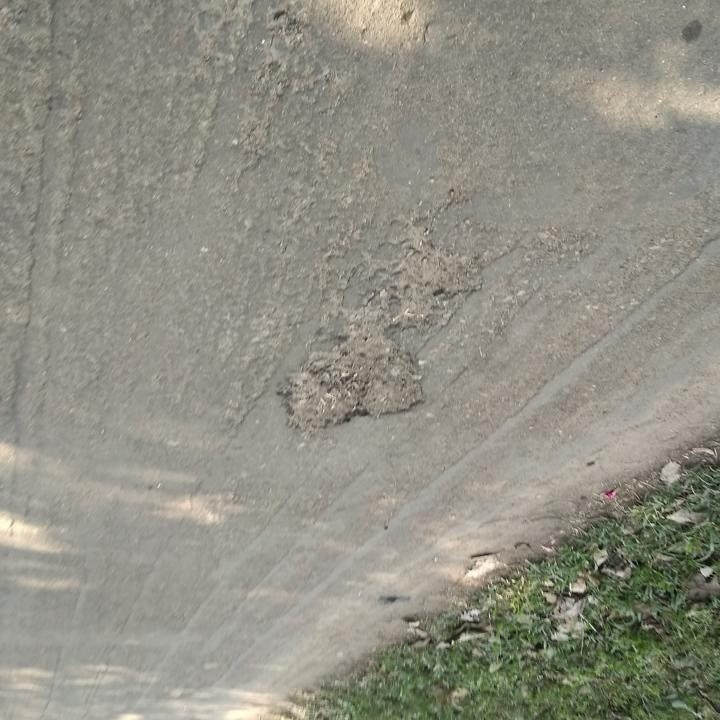pothole: (271, 333, 438, 437), (386, 226, 488, 333)
